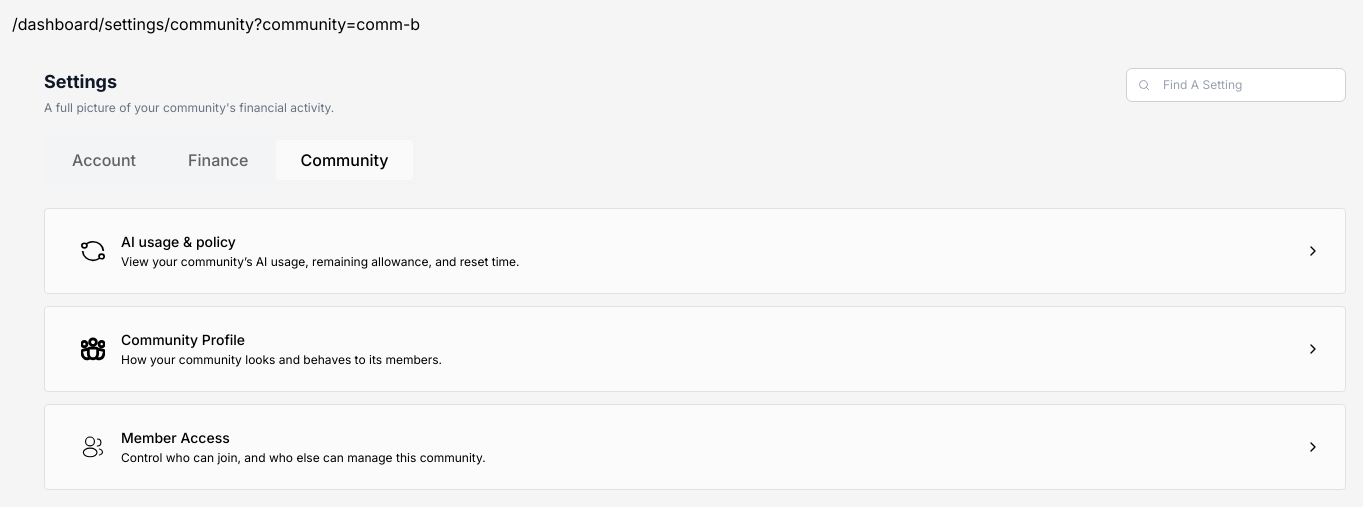
opens AI usage settings in the explicitly selected community
Click the button "AI usage & policy" at (178, 242), box [44, 208, 1346, 294]
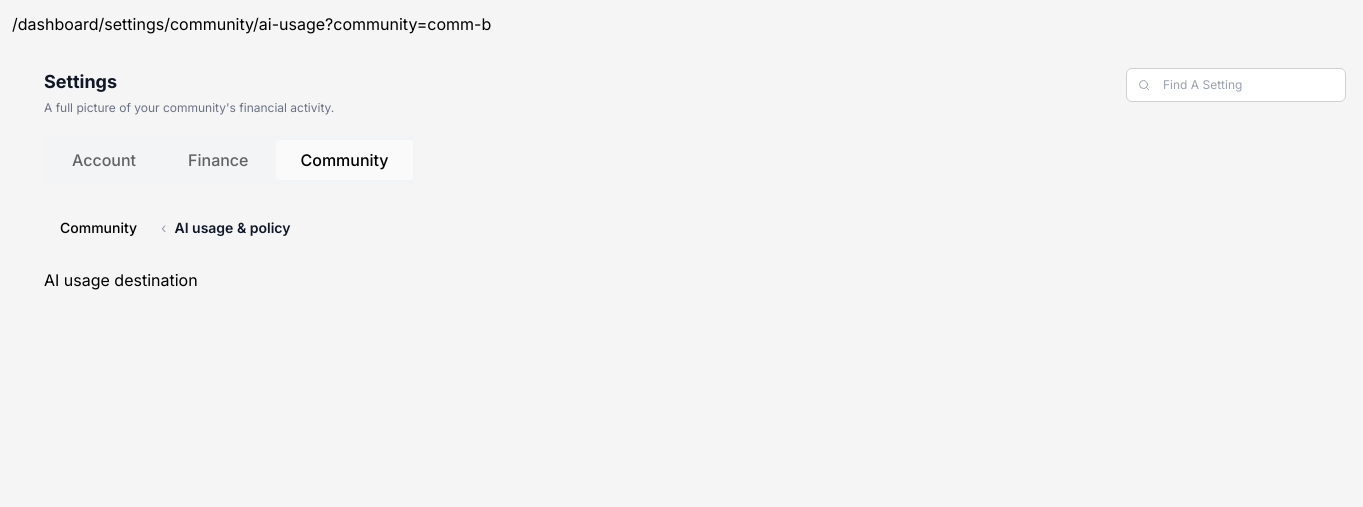
Result: the text "AI usage destination" is shown at [44, 270, 198, 290]
Result: the text with test id "location" reads "/dashboard/settings/community/ai-usage?community=comm-b" at [12, 14, 491, 34]
